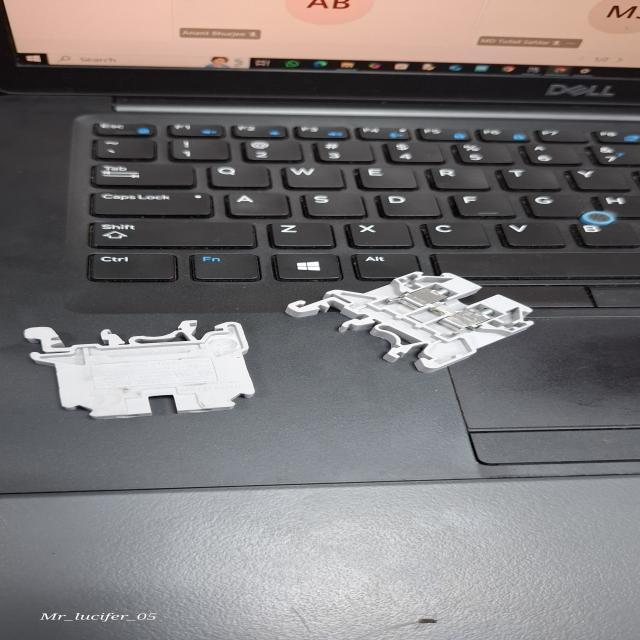Inverted: (11, 317, 269, 423)
Pass: (283, 268, 540, 374)
